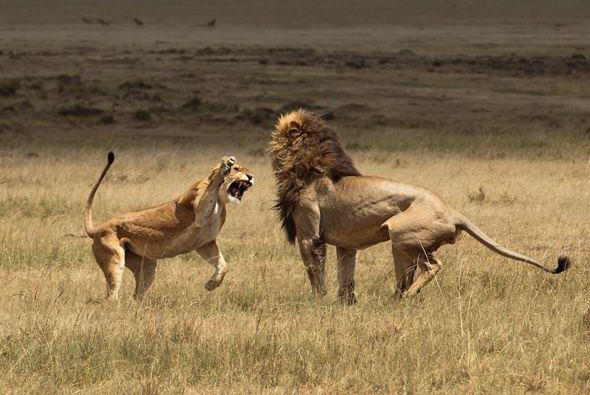lion: (269, 109, 575, 305), (83, 151, 255, 302)
